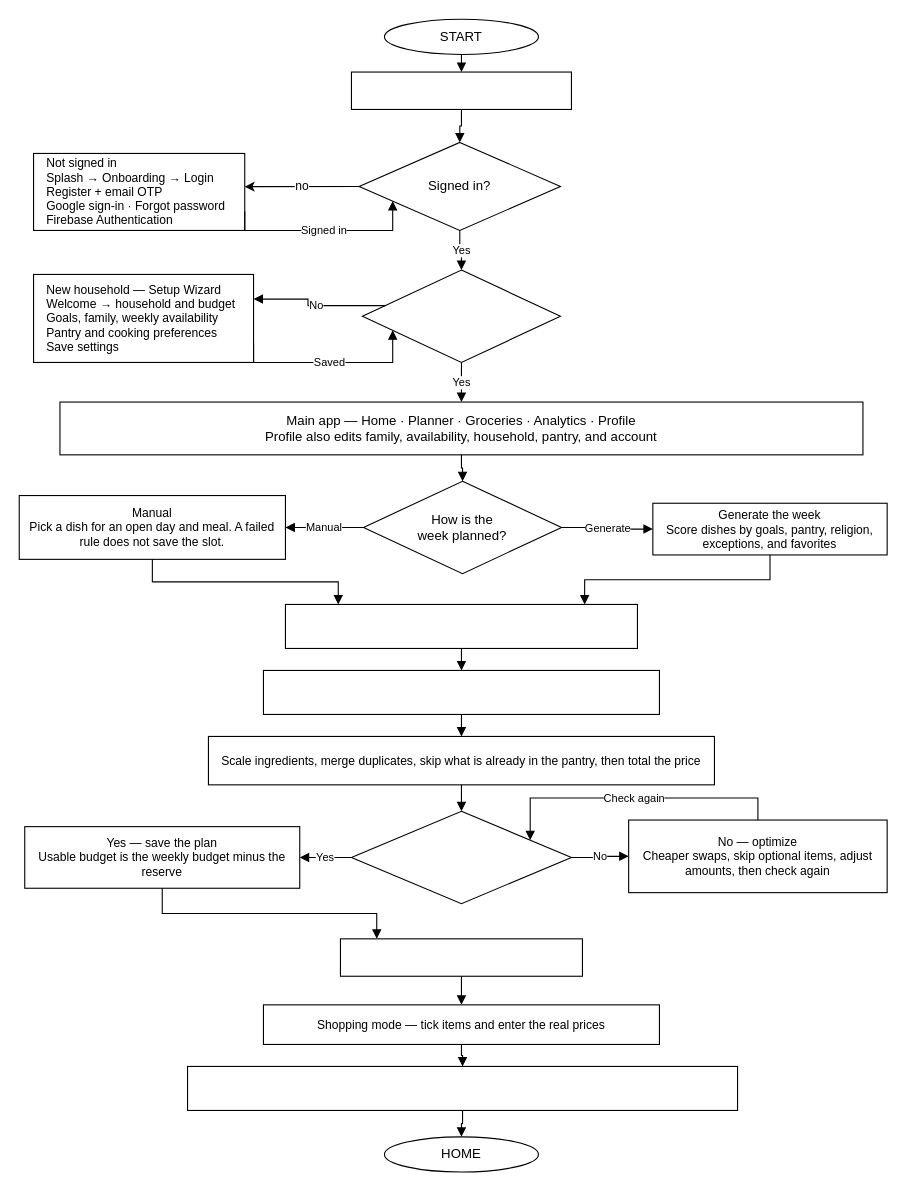
The diagram is 906 pixels wide and 1191 high, and some of its shapes have lost their labels. The shapes that lost their labels are listed below. From the top down, each one's centre as x and y in pixels, then its label:
the point at 460,90: Launch the app
the point at 460,315: Household ready?
the point at 460,625: Check allergies, diet, religion, availability, and plan length
the point at 460,691: Count who is eating. Add visitor servings for lunch and dinner only.
the point at 460,857: Within the usable budget?
the point at 460,957: Grocery list
the point at 462,1087: Finish the trip → update the pantry, remaining budget, and analytics
